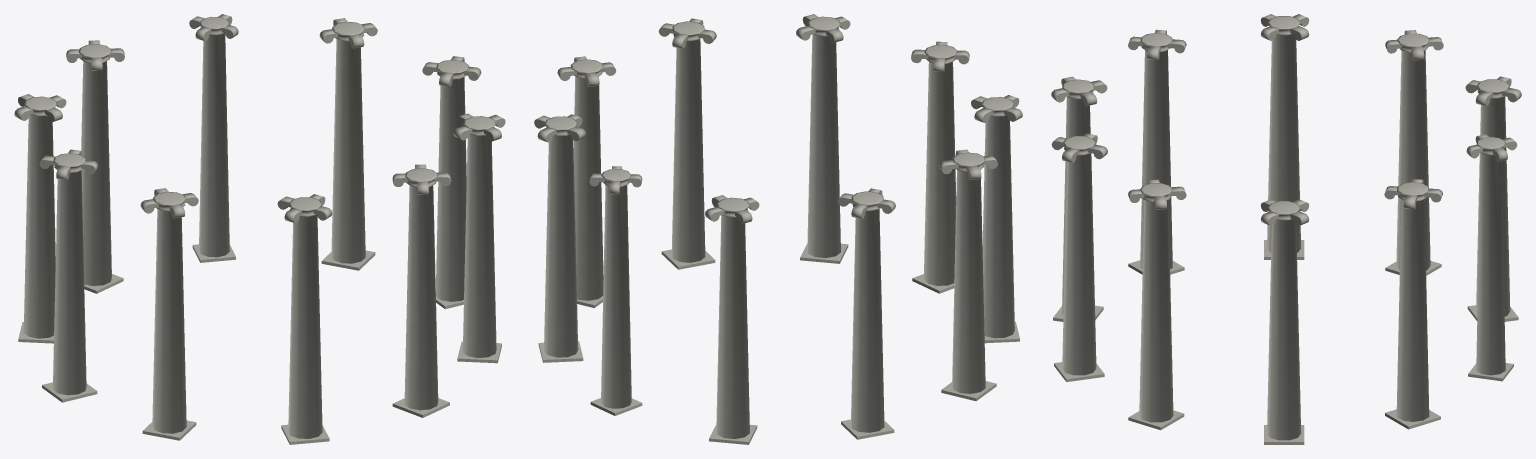
File: ColonneMacellum.fbx
The picture shows the model from 3 angles, left to right: view 1: azimuth 30°, elevation 25°; view 2: azimuth 150°, elevation 25°; view 3: azimuth 270°, elevation 25°; orthographic projection.
Parts seen in each view (by area): view 1: Colonne; view 2: Colonne; view 3: Colonne.
Part boxes in pixels (left/top/right/bottom): Colonne: left=14, top=14, right=505, bottom=444; Colonne: left=534, top=14, right=1022, bottom=444; Colonne: left=1051, top=14, right=1521, bottom=444.
Bounding box in the file's own units: 476 × 247 × 460.
